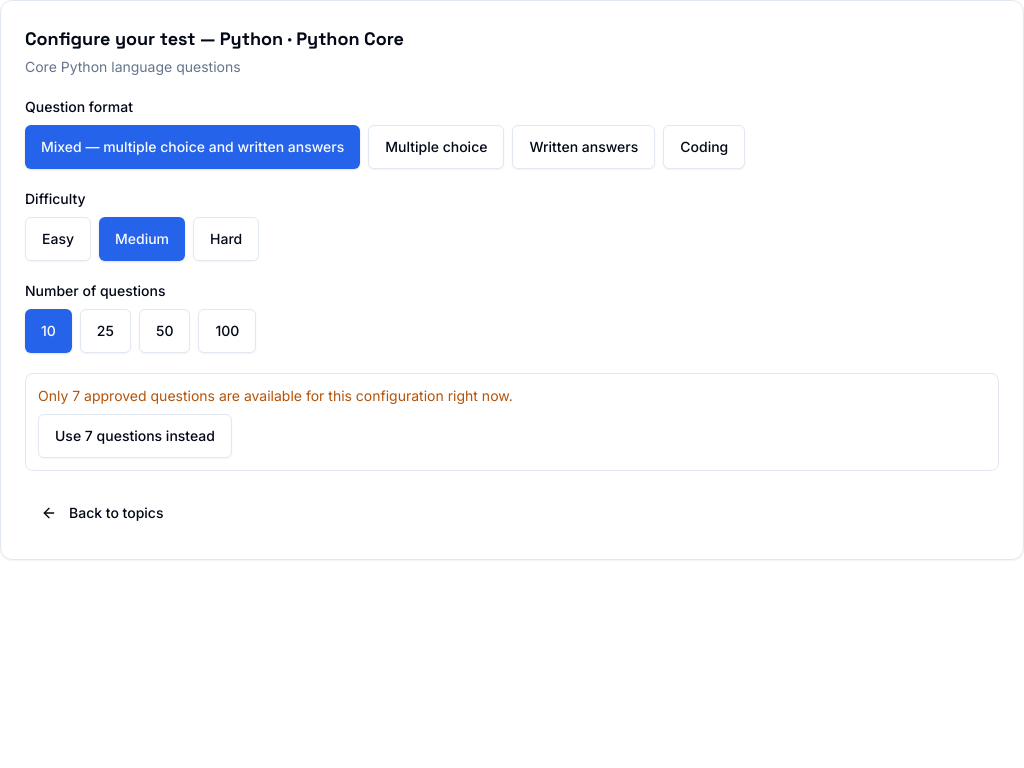
Test: #1679 — items 3–5 + NIT hardening › NIT (#1680): while a re-check is pending, the previous short-supply offer is not actionable
Expected: the button "Use 7 questions instead" is shown, left=38, top=414, right=232, bottom=458
Step 1. Click the button "25" → (105, 331), box left=80, top=309, right=131, bottom=353
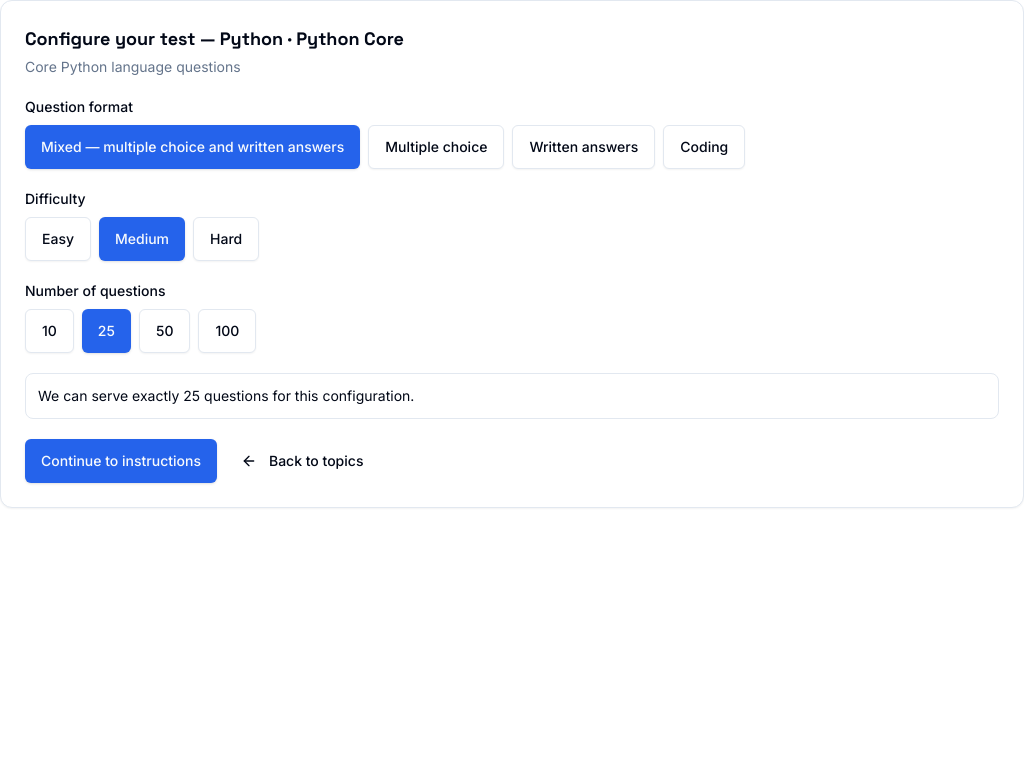
Expected: the button "Use 7 questions instead" is gone
Expected: the text "We can serve exactly 25 questions for this configuration." is shown, left=38, top=387, right=414, bottom=404
